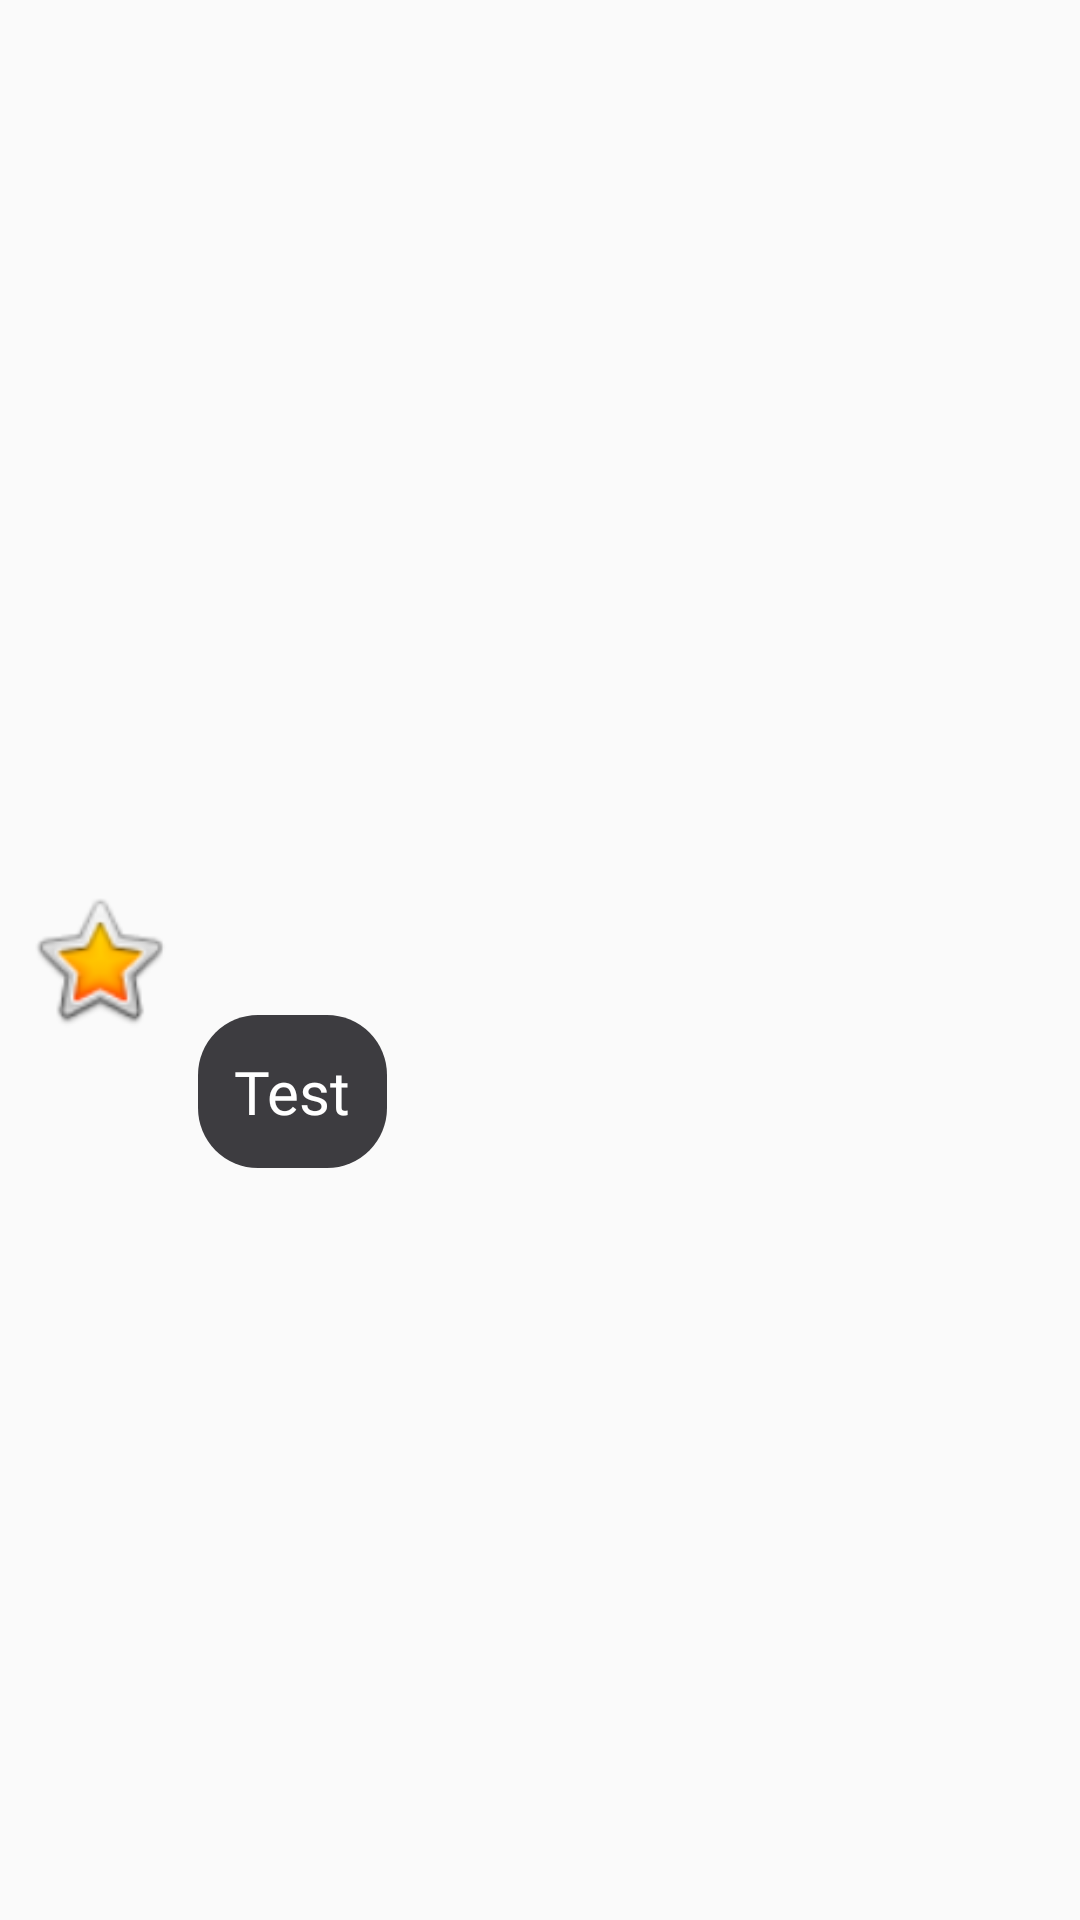

Screen size 1080 × 1920. Icon name, then its center in pixels as [x,y]:
star on: [100,961]
